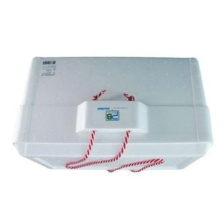foam_box: (8, 51, 218, 179)
